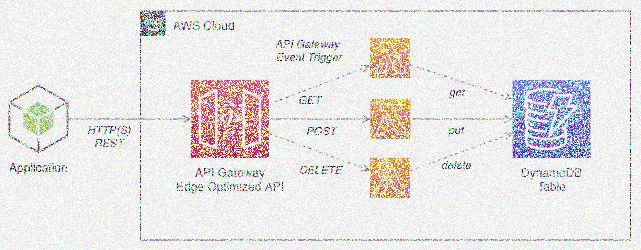API-Gateway: (187, 77, 273, 160)
Dynamo DB: (510, 79, 594, 162)
Lambda: (367, 34, 414, 81), (367, 95, 412, 142), (368, 154, 413, 198)
SDK: (4, 80, 73, 155)
aws: (138, 7, 169, 37)
